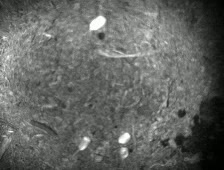corn: (86, 13, 109, 33), (116, 130, 133, 146), (76, 135, 92, 152), (117, 145, 130, 161)
